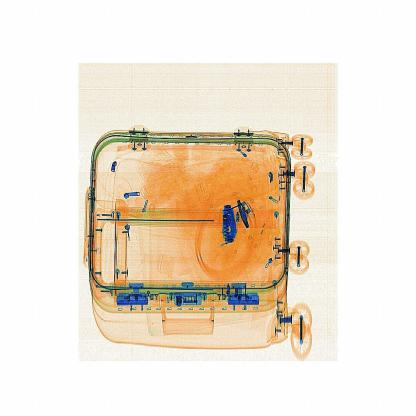scissors: (214, 194, 242, 249)
